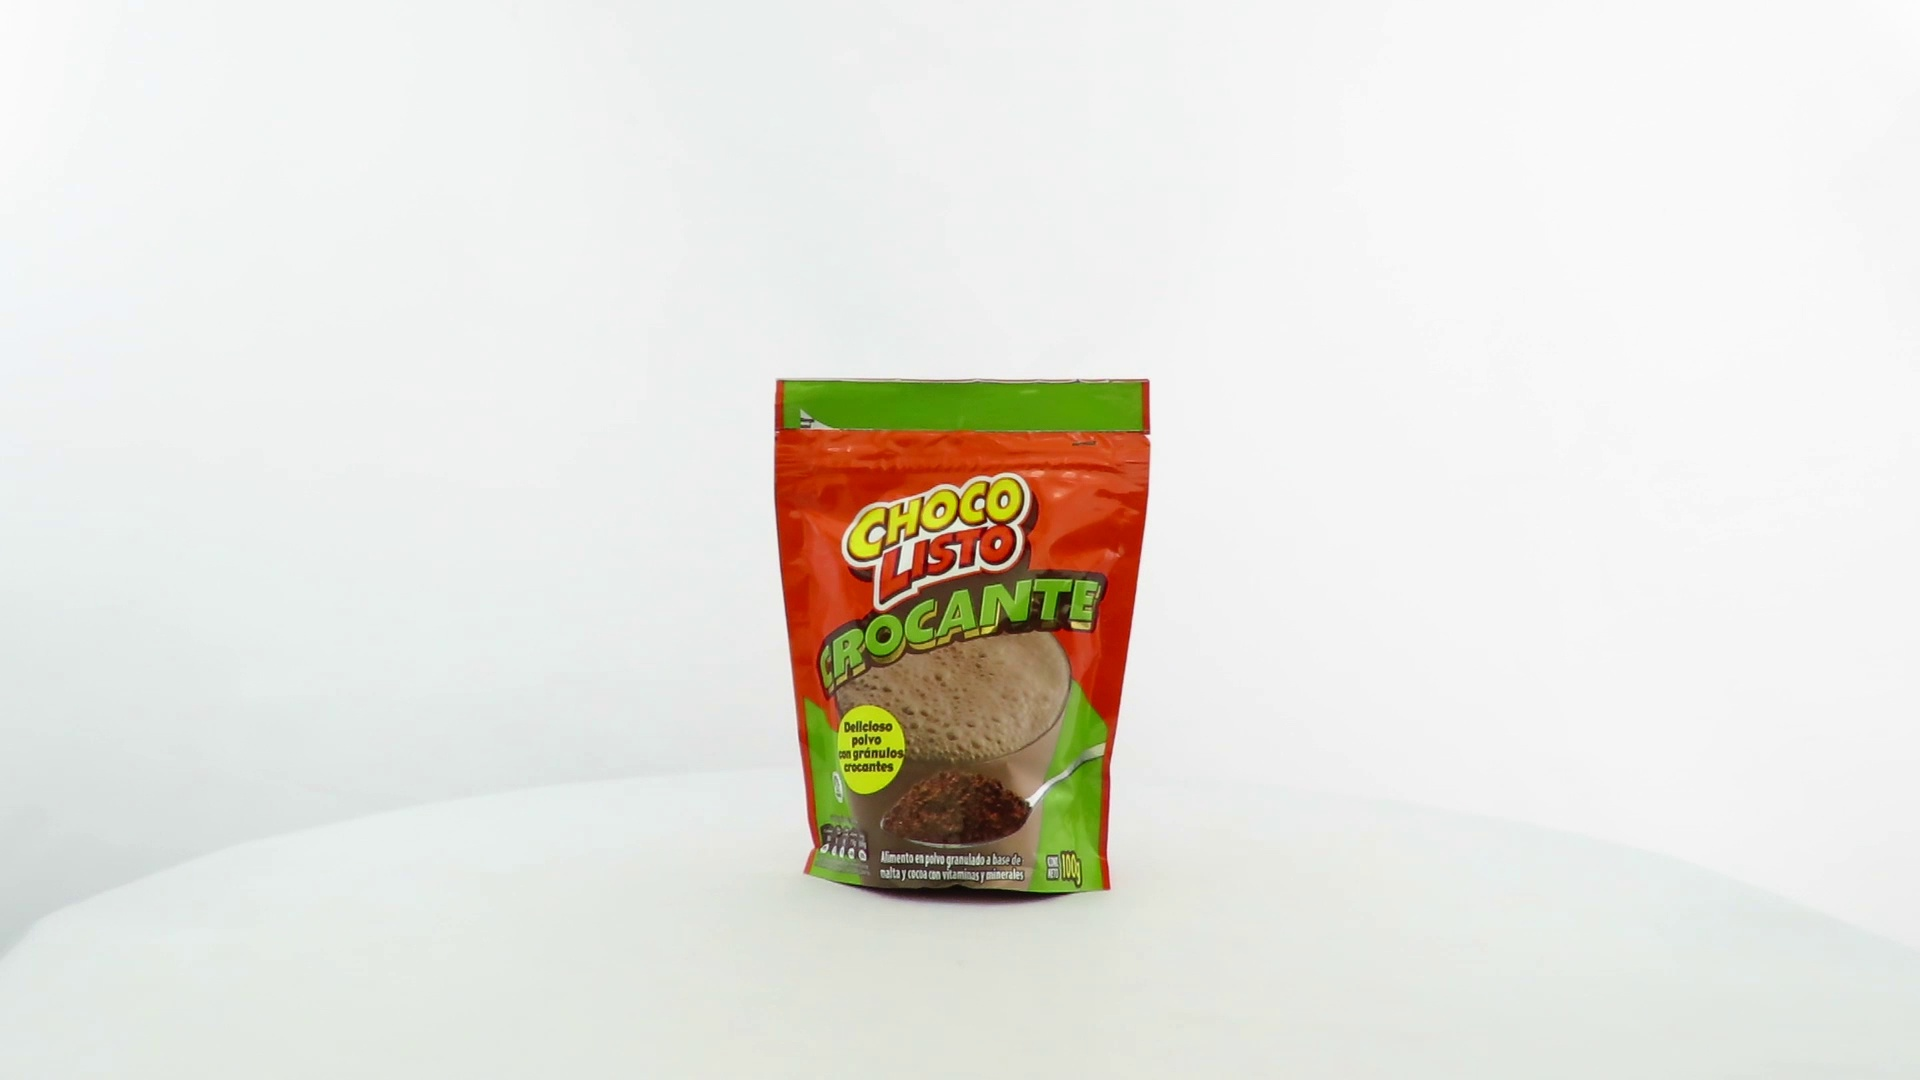COL0170102DYP10000: (769, 372, 1156, 911)
